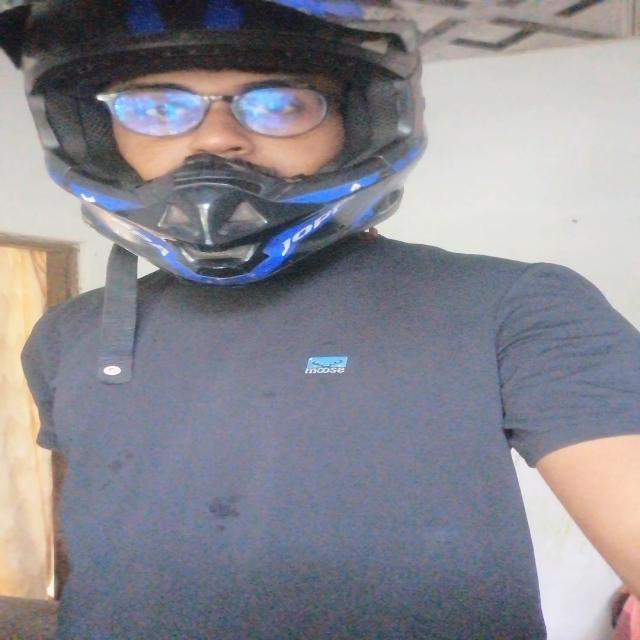Helmet_Wearer: (0, 8, 442, 295)
